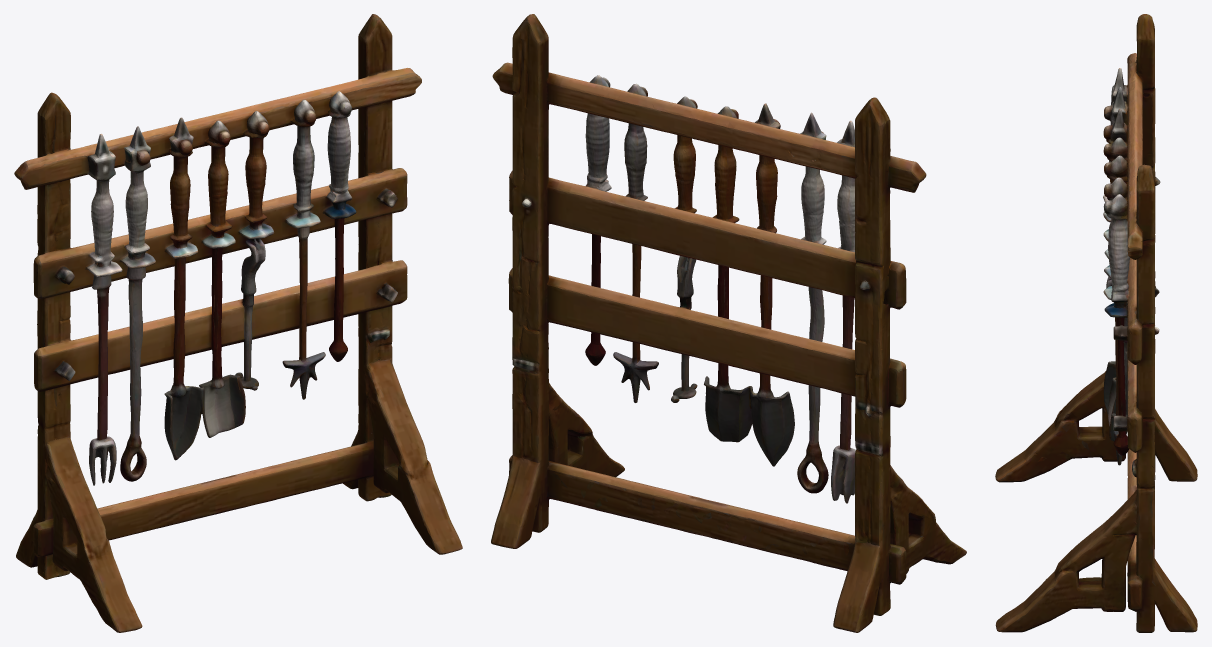
Rendered from blacksmith_tool_rack_01.glb.
3 views of the same model, side by side, from view 1: azimuth 30°, elevation 25°; view 2: azimuth 150°, elevation 25°; view 3: azimuth 270°, elevation 25° (orthographic). The views are drawn at different scales.
Visible parts, largest first — view 1: geometry_0; view 2: geometry_0; view 3: geometry_0.
Part boxes in pixels (x1=…): geometry_0: x1=14, y1=14, x2=462, y2=632; geometry_0: x1=491, y1=14, x2=966, y2=632; geometry_0: x1=995, y1=14, x2=1197, y2=632.
Bounding box in the file's own units: 0.8752 × 1 × 0.396.
Materials: 1 (1 with a texture image).
